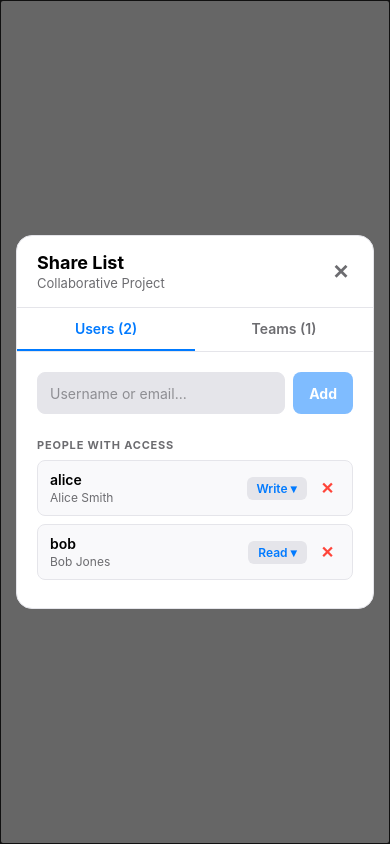
ProjectSharingModal › allows adding a new user with selected permission
Expected: the text "alice" is shown, [50,471,82,488]
Note: Switch/focus on Add User input
Type "charlie" into the field with test id "share-user-input" at (161,393), box [37,372,285,414]
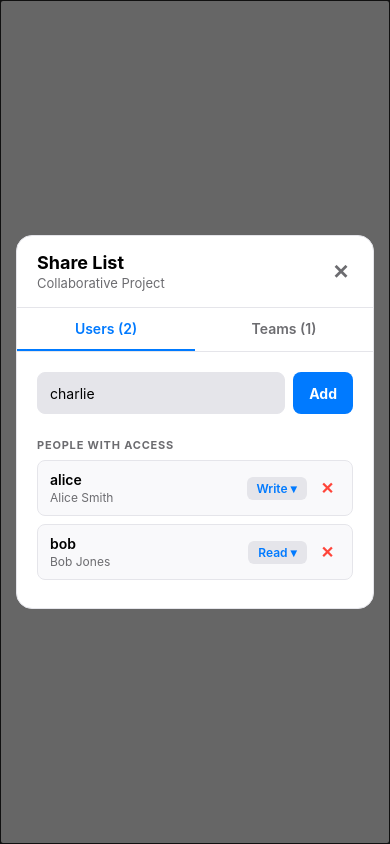
Click the element with test id "share-add-user-btn" at (323,393), box [293,372,353,414]
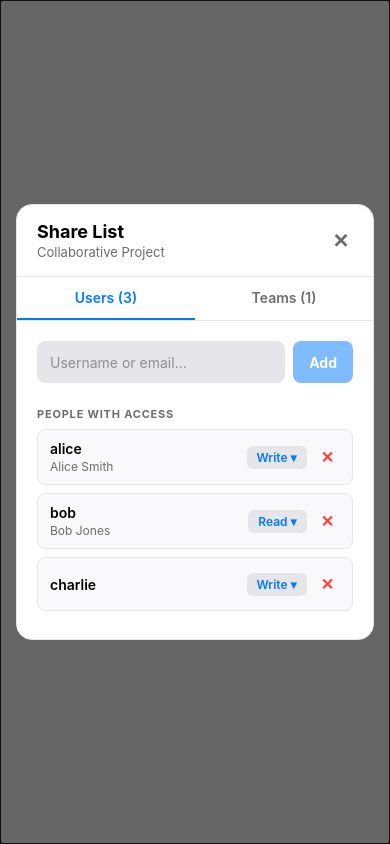
Result: the text "charlie" is shown at [50,576,96,592]
